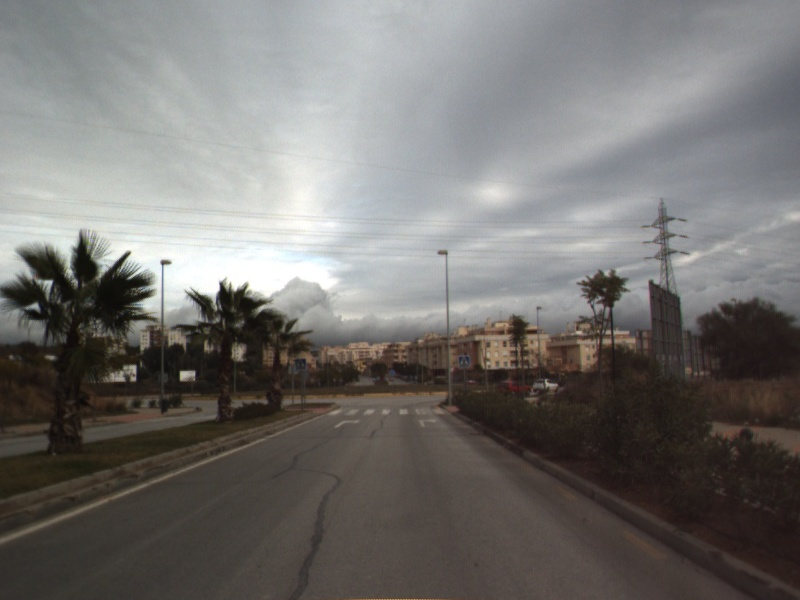RIGHT: (332, 417, 363, 430), (417, 416, 439, 429)
